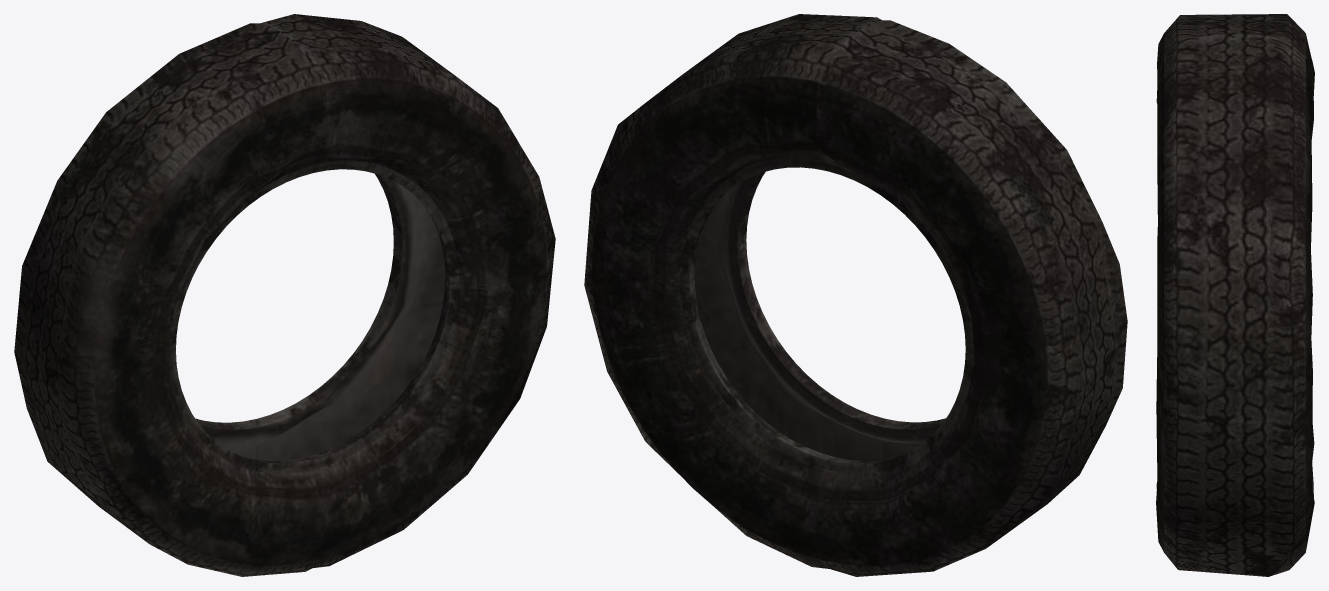
Rendered from ph_tyre.glb.
3 renders of one model, left to right at view 1: azimuth 30°, elevation 25°; view 2: azimuth 150°, elevation 25°; view 3: azimuth 270°, elevation 25°, orthographic.
Bounding box in the file's own units: 0.5901 × 0.6 × 0.1671.
1 material, 1 textured.
